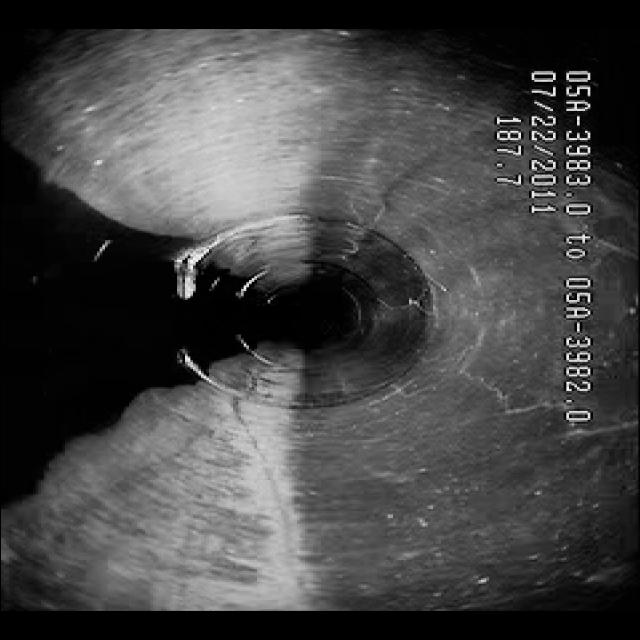Crack: (220, 418, 324, 570)
